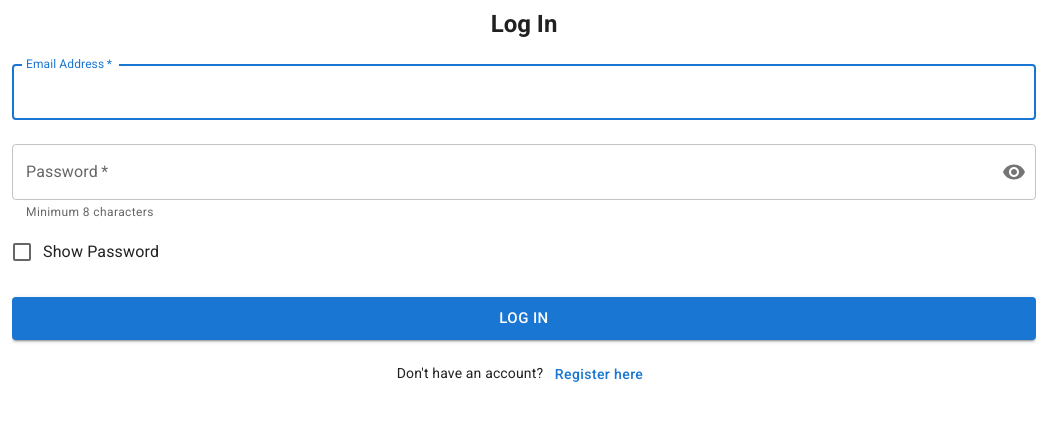
Test case: authentication forms › shows validation errors and does not submit invalid login data
This screenshot has width=1048, height=421.
Click the button "Log In" at (524, 318), box [12, 297, 1036, 340]
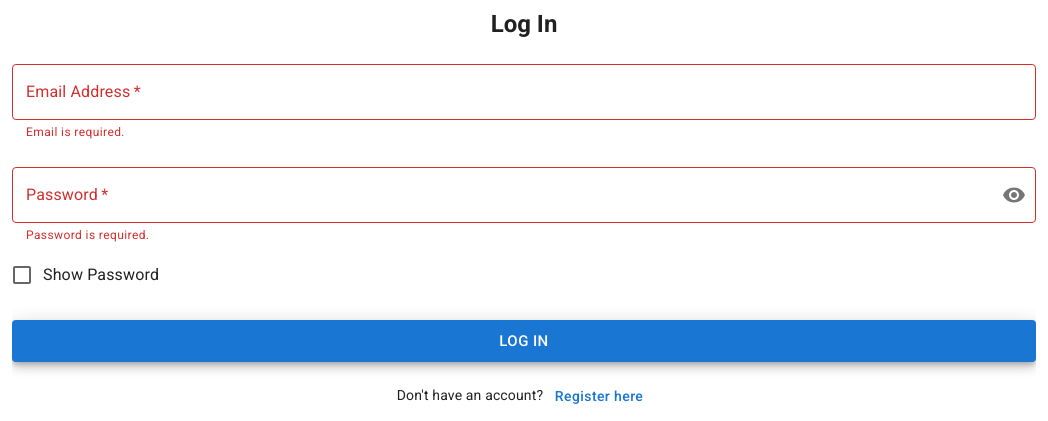
Check: the text "Email is required." is shown, box [26, 125, 125, 139]
Check: the text "Password is required." is shown, box [26, 228, 149, 242]
